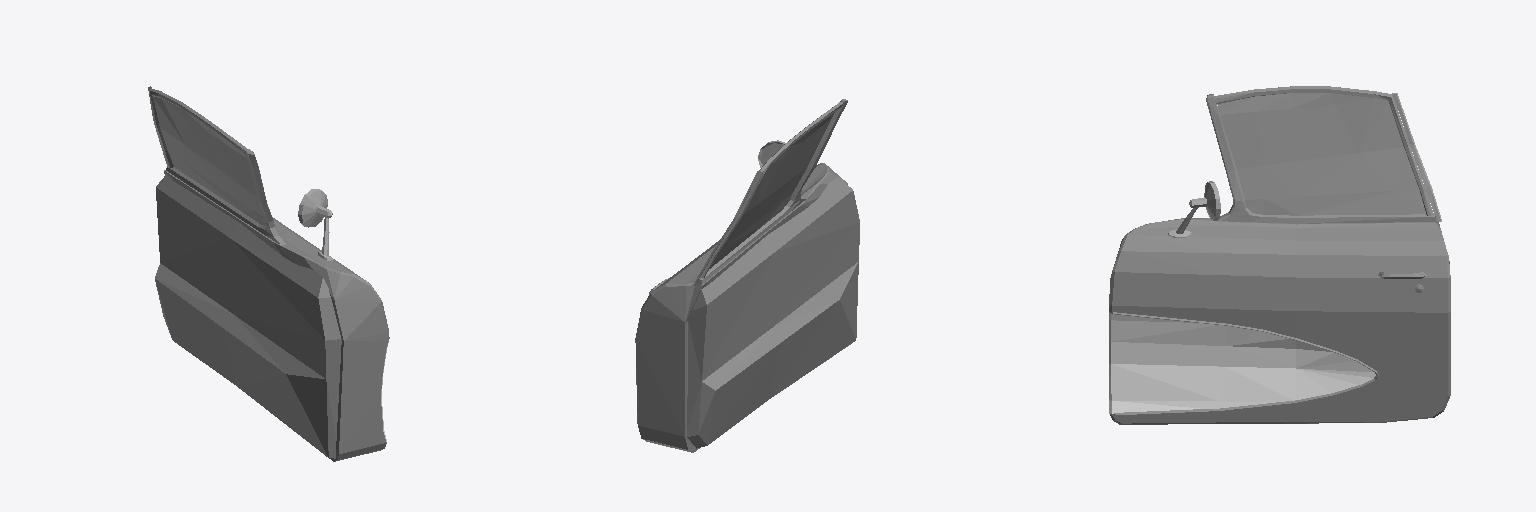
3 views of the same model, side by side, from view 1: azimuth 30°, elevation 25°; view 2: azimuth 150°, elevation 25°; view 3: azimuth 270°, elevation 25° (orthographic).
Visible parts, largest first — view 1: Door_R; view 2: Door_R; view 3: Door_R.
Boxes of the visible parts, box(x1,y1,x2,y2) form: Door_R: box(148, 86, 389, 461); Door_R: box(635, 99, 859, 452); Door_R: box(1109, 86, 1450, 424).
Bounding box in the file's own units: 7.99 × 21.99 × 23.21.
Materials: 4 (1 with a texture image).